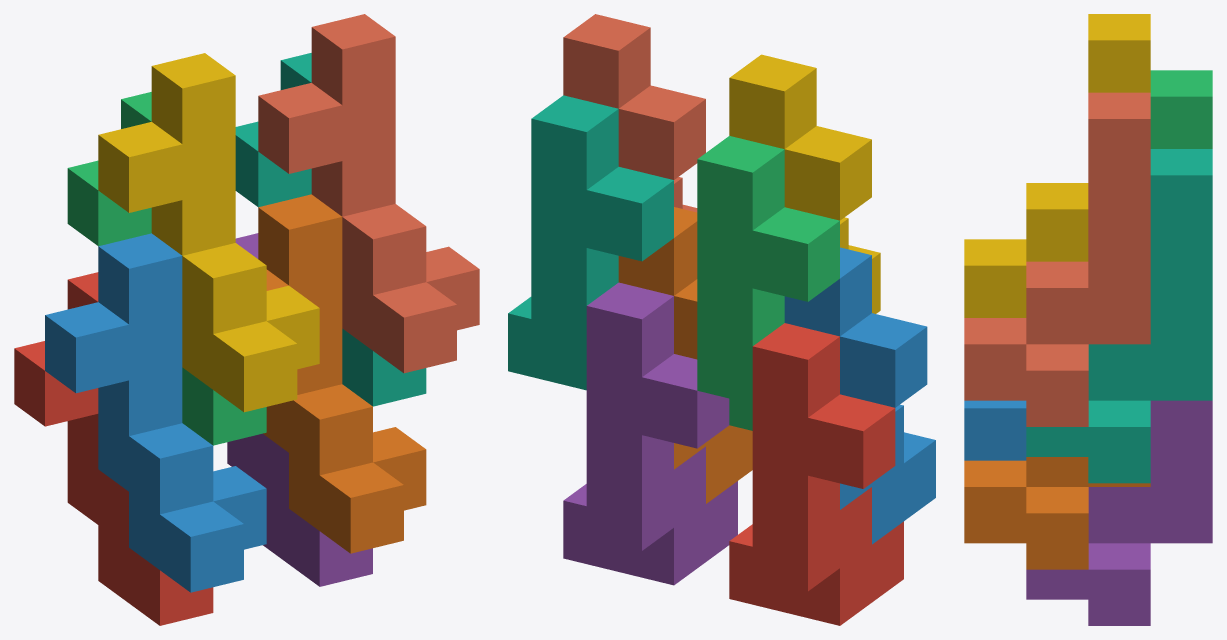
The model's file is tiling.obj.
The picture shows the model from 3 angles, left to right: view 1: azimuth 30°, elevation 25°; view 2: azimuth 150°, elevation 25°; view 3: azimuth 270°, elevation 25°; orthographic projection. The views are drawn at different scales.
Parts seen in each view (by area): view 1: copy_1_domain_2, copy_1_domain_4, copy_1_domain_8, copy_1_domain_6, copy_1_domain_1, copy_1_domain_3, copy_1_domain_7, copy_1_domain_5; view 2: copy_1_domain_1, copy_1_domain_5, copy_1_domain_7, copy_1_domain_3, copy_1_domain_2, copy_1_domain_4, copy_1_domain_8, copy_1_domain_6; view 3: copy_1_domain_8, copy_1_domain_7, copy_1_domain_5, copy_1_domain_4, copy_1_domain_6, copy_1_domain_3, copy_1_domain_2.
Part boxes in pixels (x1=…): copy_1_domain_2: x1=45, y1=233, x2=266, y2=592; copy_1_domain_4: x1=98, y1=53, x2=319, y2=412; copy_1_domain_8: x1=258, y1=14, x2=479, y2=373; copy_1_domain_6: x1=258, y1=194, x2=426, y2=553; copy_1_domain_1: x1=14, y1=272, x2=213, y2=625; copy_1_domain_3: x1=67, y1=92, x2=266, y2=445; copy_1_domain_7: x1=235, y1=53, x2=426, y2=406; copy_1_domain_5: x1=227, y1=233, x2=372, y2=586; copy_1_domain_1: x1=729, y1=323, x2=903, y2=625; copy_1_domain_5: x1=563, y1=282, x2=737, y2=585; copy_1_domain_7: x1=508, y1=95, x2=673, y2=390; copy_1_domain_3: x1=697, y1=136, x2=839, y2=430; copy_1_domain_2: x1=784, y1=247, x2=935, y2=544; copy_1_domain_4: x1=729, y1=54, x2=880, y2=313; copy_1_domain_8: x1=563, y1=14, x2=705, y2=212; copy_1_domain_6: x1=618, y1=207, x2=752, y2=503; copy_1_domain_8: x1=964, y1=92, x2=1150, y2=426; copy_1_domain_7: x1=1026, y1=149, x2=1212, y2=483; copy_1_domain_5: x1=1026, y1=400, x2=1212, y2=625; copy_1_domain_4: x1=964, y1=14, x2=1150, y2=317; copy_1_domain_6: x1=964, y1=457, x2=1150, y2=569; copy_1_domain_3: x1=1150, y1=70, x2=1212, y2=148; copy_1_domain_2: x1=964, y1=400, x2=1026, y2=460.
Size of the model in its own units: 7 by 9 by 4.
